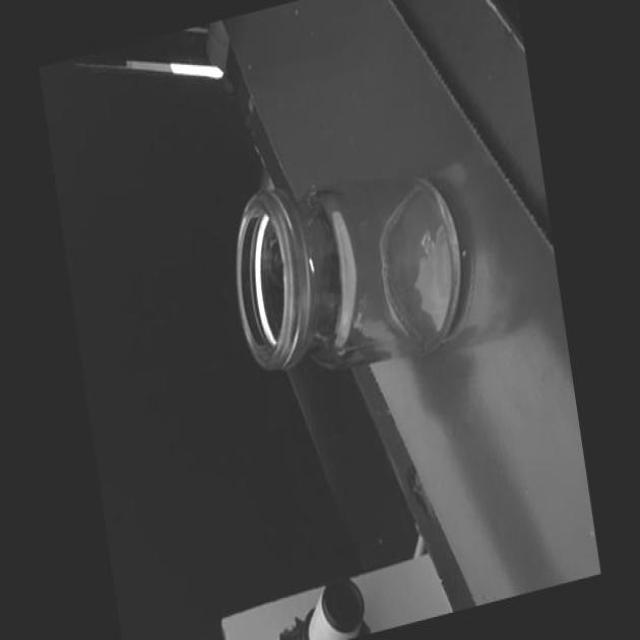defect: (308, 254, 316, 271)
glass: (224, 141, 472, 392)
